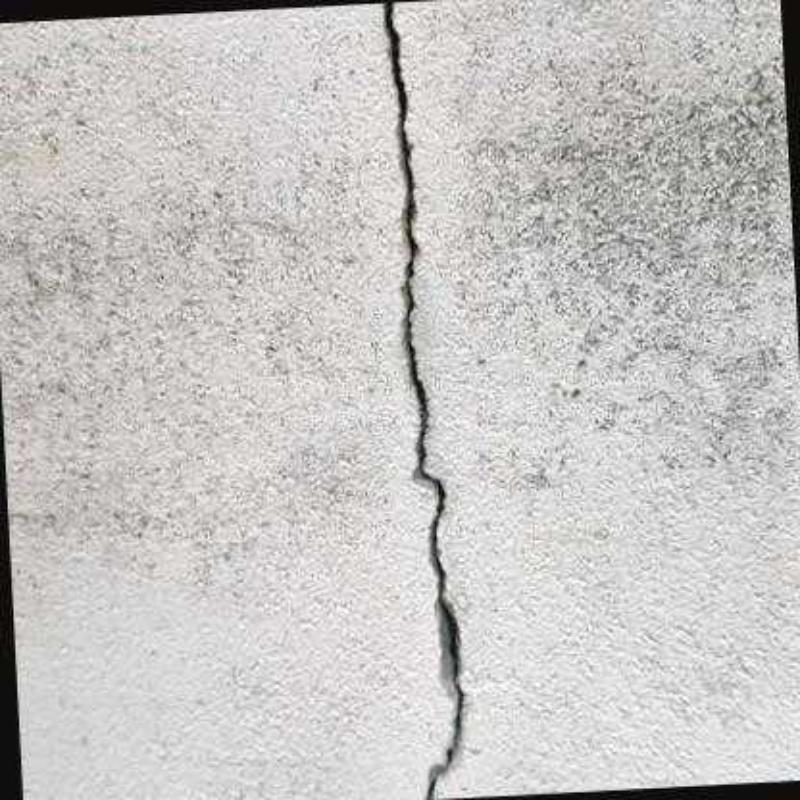pothole: (383, 0, 465, 798)
